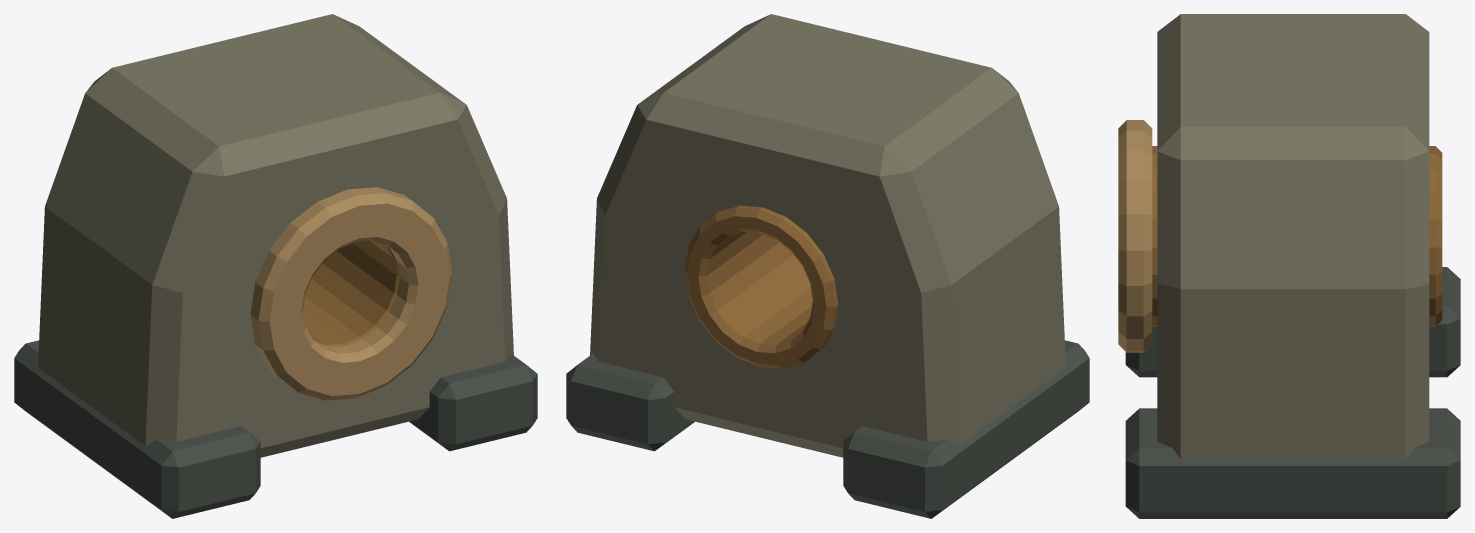
Rendered from PIN_SOCKET.lo.glb.
The picture shows the model from 3 angles, left to right: view 1: azimuth 30°, elevation 25°; view 2: azimuth 150°, elevation 25°; view 3: azimuth 270°, elevation 25°; orthographic projection. The views are drawn at different scales.
Parts seen in each view (by area): view 1: Body_Mesh; view 2: Body_Mesh; view 3: Body_Mesh.
Part boxes in pixels (box(x1,y1,x2,y2)): Body_Mesh: box(14, 14, 537, 518); Body_Mesh: box(566, 14, 1089, 518); Body_Mesh: box(1118, 14, 1460, 518).
Bounding box in the file's own units: 0.87 × 0.755 × 0.6545.
